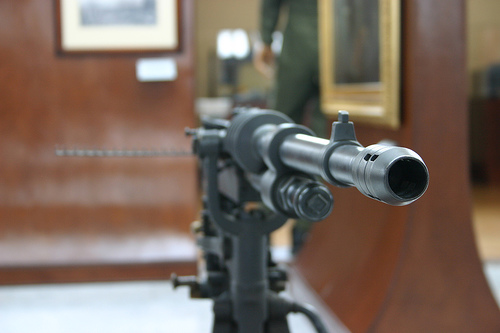rifle: (146, 65, 434, 325)
